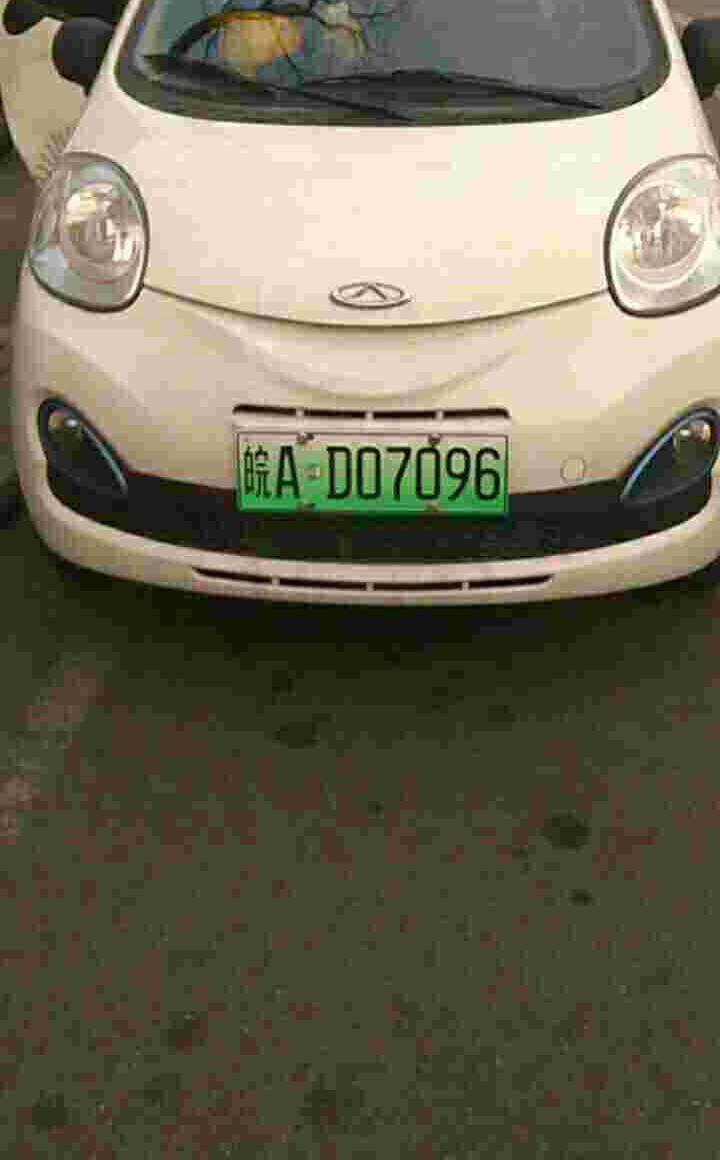car: (225, 421, 511, 529)
